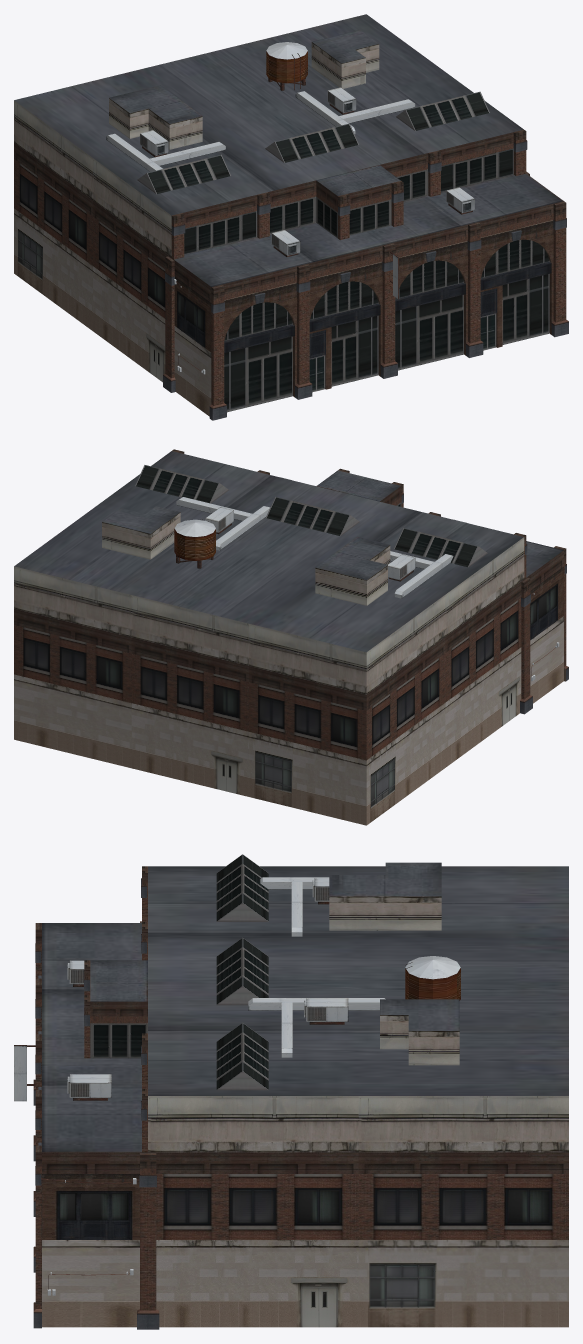
Rendered from BuildingBrickArcade.obj.
The picture shows the model from 3 angles, top to bottom: view 1: azimuth 30°, elevation 25°; view 2: azimuth 150°, elevation 25°; view 3: azimuth 270°, elevation 25°; orthographic projection. The views are drawn at different scales.
Visible parts, largest first — view 1: Downtown_Mall_1_Downtown_Facade_FLR_2_0, Downtown_Mall_1_Downtown_Firstfloor_FLR_2_0; view 2: Downtown_Mall_1_Downtown_Facade_FLR_2_0, Downtown_Mall_1_Downtown_Firstfloor_FLR_2_0; view 3: Downtown_Mall_1_Downtown_Facade_FLR_2_0, Downtown_Mall_1_Downtown_Firstfloor_FLR_2_0.
Boxes of the visible parts, x1=… form: Downtown_Mall_1_Downtown_Facade_FLR_2_0: x1=14, y1=14, x2=568, y2=420; Downtown_Mall_1_Downtown_Firstfloor_FLR_2_0: x1=106, y1=42, x2=549, y2=412; Downtown_Mall_1_Downtown_Facade_FLR_2_0: x1=14, y1=449, x2=568, y2=825; Downtown_Mall_1_Downtown_Firstfloor_FLR_2_0: x1=135, y1=465, x2=564, y2=681; Downtown_Mall_1_Downtown_Facade_FLR_2_0: x1=33, y1=862, x2=568, y2=1329; Downtown_Mall_1_Downtown_Firstfloor_FLR_2_0: x1=14, y1=854, x2=460, y2=1295.
Bounding box in the file's own units: 31.67 × 17.74 × 31.59.
2 materials, 2 textured.
